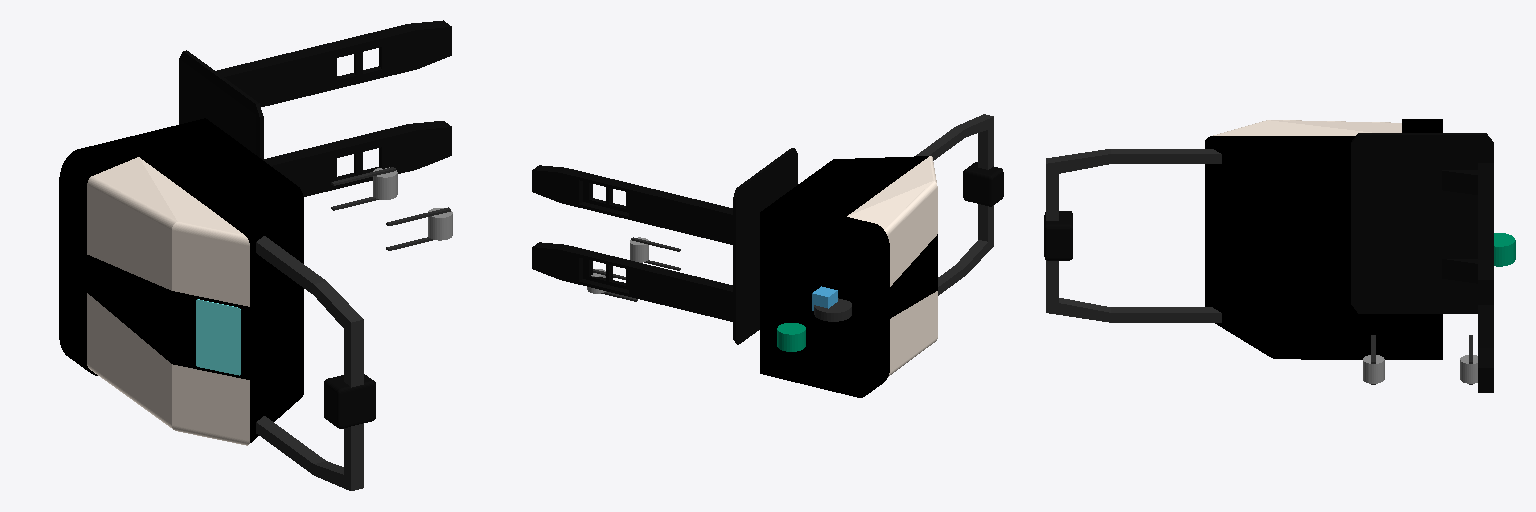
The robot description file, URDF, robot "forklift_amr":
<?xml version="1.0"?>
<robot name="forklift_amr">

  <link name="base_footprint"/>

  <joint name="base_footprint_joint" type="fixed">
    <parent link="base_footprint"/>
    <child link="base_link"/>
    <origin xyz="0 0 0" rpy="0 0 0"/>
  </joint>

  <link name="base_link">
    <visual>
      <geometry> <box size="0.1 0.1 0.1"/> </geometry>
    </visual>
    <collision>
      <geometry> <box size="0.1 0.1 0.1"/> </geometry>
    </collision>
    <inertial>
      <mass value="10.0"/>
      <inertia ixx="5.0" ixy="0.0" ixz="0.0" iyy="5.0" iyz="0.0" izz="5.0"/>
    </inertial>
  </link>

  <joint name="left_wheel_joint" type="continuous">
    <parent link="base_link"/>
    <child link="left_wheel_link"/>
    <origin xyz="0.0 0.35 -0.071" rpy="0 0 0"/>
    <axis xyz="0 1 0"/>
  </joint>
  <link name="left_wheel_link">
    <visual>   <geometry> <mesh filename="wheel/wheel_texture.dae"/> </geometry> </visual>
    <collision>
      <origin xyz="0 0 0" rpy="1.57079632679 0 0"/>
      <geometry> 
        <cylinder radius="0.075" length="0.1"/> 
      </geometry> 
    </collision>
  </link>

  <joint name="right_wheel_joint" type="continuous">
    <parent link="base_link"/>
    <child link="right_wheel_link"/>
    <origin xyz="0.0 -0.35 -0.071" rpy="0 0 0"/>
    <axis xyz="0 1 0"/>
  </joint>
  <link name="right_wheel_link">
    <visual>   <geometry> <mesh filename="wheel/wheel_texture.dae"/> </geometry> </visual>
    <collision>
      <origin xyz="0 0 0" rpy="1.57079632679 0 0"/>
      <geometry> 
        <cylinder radius="0.075" length="0.1"/> 
      </geometry> 
    </collision>
  </link>

  <joint name="middle_wheel_joint" type="fixed">
    <parent link="base_link"/> <child link="middle_wheel_link"/>
    <origin xyz="-0.05 0.0 -0.04" rpy="0 0 0"/>
  </joint>
  <link name="middle_wheel_link">
    <visual>   <geometry> <mesh filename="wheel/wheel_middle.dae"/> </geometry> </visual>
    <collision><geometry> <mesh filename="wheel/wheel_middle.dae"/> </geometry> </collision>
  </link>

  <joint name="cast_wheel_joint1" type="revolute">
    <parent link="base_link"/> 
    <child link="cast_wheel_link1"/>
    <origin xyz="1.25 -0.2225 -0.09" rpy="0 0 0"/>
    <axis xyz="0 1 0"/> <limit lower="0.0" upper="1.5708" effort="100.0" velocity="1.0"/> 
  </joint>
  <link name="cast_wheel_link1">
    <visual>   <geometry> <mesh filename="castor/castor1.dae"/> </geometry> </visual>
    <collision><geometry> <mesh filename="castor/castor1.dae"/> </geometry> </collision>



    <visual>   <geometry> <mesh filename="castor/castor3.dae"/> </geometry> </visual>
    <collision><geometry> <mesh filename="castor/castor3.dae"/> </geometry> </collision>

    <visual>   <geometry> <mesh filename="castor/castor4.dae"/> </geometry> </visual>
    <collision><geometry> <mesh filename="castor/castor4.dae"/> </geometry> </collision>
  </link>

  <joint name="cast_wheel_joint2" type="revolute">
    <parent link="base_link"/> 
    <child link="cast_wheel_link2"/>
    <origin xyz="1.25 0.2225 -0.09" rpy="0 0 0"/>
    <axis xyz="0 1 0"/> <limit lower="0.0" upper="1.5708" effort="100.0" velocity="1.0"/>
  </joint>
  <link name="cast_wheel_link2">
    <visual>   <geometry> <mesh filename="castor/castor1.dae"/> </geometry> </visual>
    <collision><geometry> <mesh filename="castor/castor1.dae"/> </geometry> </collision>



    <visual>   <geometry> <mesh filename="castor/castor3.dae"/> </geometry> </visual>
    <collision><geometry> <mesh filename="castor/castor3.dae"/> </geometry> </collision>

    <visual>   <geometry> <mesh filename="castor/castor4.dae"/> </geometry> </visual>
    <collision><geometry> <mesh filename="castor/castor4.dae"/> </geometry> </collision>
  </link>

  <joint name="mast_joint" type="fixed">
    <parent link="base_link"/>
    <child link="mast_link"/>
    <origin xyz="0 0 0" rpy="0 0 0"/>
  </joint>
  <link name="mast_link">
    <visual>   <geometry> <mesh filename="base/base1_1.dae"/> </geometry> </visual>
    <collision><geometry> <mesh filename="base/base1_1.dae"/> </geometry> </collision>

    <visual>   <geometry> <mesh filename="base/base1_2.dae"/> </geometry> </visual>
    <collision><geometry> <mesh filename="base/base1_2.dae"/> </geometry> </collision>

    <visual>   <geometry> <mesh filename="base/base1_3.dae"/> </geometry> </visual>
    <collision><geometry> <mesh filename="base/base1_3.dae"/> </geometry> </collision>

    <visual>   <geometry> <mesh filename="base/base1_4.dae"/> </geometry> </visual>
    <collision><geometry> <mesh filename="base/base1_4.dae"/> </geometry> </collision>

    <visual>   <geometry> <mesh filename="base/base1_5.dae"/> </geometry> </visual>
    <collision><geometry> <mesh filename="base/base1_5.dae"/> </geometry> </collision>

    <visual>   <geometry> <mesh filename="base/base2.dae"/> </geometry> </visual>
    <collision><geometry> <mesh filename="base/base2.dae"/> </geometry> </collision>

    <visual>   <geometry> <mesh filename="base/base3.dae"/> </geometry> </visual>
    <collision><geometry> <mesh filename="base/base3.dae"/> </geometry> </collision>

    <visual>   <geometry> <mesh filename="base/base4.dae"/> </geometry> </visual>
    <collision><geometry> <mesh filename="base/base4.dae"/> </geometry> </collision>

    <visual>   <geometry> <mesh filename="base/base5.dae"/> </geometry> </visual>
    <collision><geometry> <mesh filename="base/base5.dae"/> </geometry> </collision>

    <visual>   <geometry> <mesh filename="base/base6.dae"/> </geometry> </visual>
    <collision><geometry> <mesh filename="base/base6.dae"/> </geometry> </collision>

    <visual>   <geometry> <mesh filename="base/base7.dae"/> </geometry> </visual>
    <collision><geometry> <mesh filename="base/base7.dae"/> </geometry> </collision>
    
    <inertial>
      <mass value="10.0"/>
      <origin xyz="0 0 0" rpy="0 0 0"/>
      <inertia ixx="0.2" ixy="0.0" ixz="0.0" iyy="0.2" iyz="0.0" izz="0.05"/>
    </inertial>
  </link>

  <joint name="lift_z_joint" type="prismatic">
    <parent link="mast_link"/>
    <child link="lift_shuttle_link"/>
    <origin xyz="0.36 0 0.23" rpy="0 0 0"/>
    <axis xyz="0 0 1"/>
    <limit lower="-0.1" upper="0.3" effort="50000" velocity="0.5"/>
  </joint>
  
  <link name="lift_shuttle_link">
    <visual> <geometry> <mesh filename="lift/lift1.dae"/> </geometry> </visual>
    <collision> <geometry> <mesh filename="lift/lift1.dae"/> </geometry> </collision>

    <visual> <geometry> <mesh filename="lift/lift2.dae"/> </geometry> </visual>
    <collision> <geometry> <mesh filename="lift/lift2.dae"/> </geometry> </collision>

    <visual> <geometry> <mesh filename="lift/lift3.dae"/> </geometry> </visual>
    <collision> <geometry> <mesh filename="lift/lift3.dae"/> </geometry> </collision>

    <visual> <geometry> <mesh filename="lift/lift4.dae"/> </geometry> </visual>
    <collision> <geometry> <mesh filename="lift/lift4.dae"/> </geometry> </collision>

    <visual> <geometry> <mesh filename="lift/lift5.dae"/> </geometry> </visual>
    <collision> <geometry> <mesh filename="lift/lift5.dae"/> </geometry> </collision>
    
    <inertial>
      <mass value="20.0"/>
      <origin xyz="0 0 0" rpy="0 0 0"/>
      <inertia ixx="0.1" ixy="0.0" ixz="0.0" iyy="0.1" iyz="0.0" izz="0.1"/>
    </inertial>
  </link>

</robot>

--- Facts derived from the render (not from the file) ---
The picture shows the robot from 3 angles, left to right: view 1: azimuth 30°, elevation 25°; view 2: azimuth 150°, elevation 25°; view 3: azimuth 270°, elevation 25°; orthographic projection.
Robot: forklift_amr — 9 links, 8 joints (2 revolute, 2 continuous, 1 prismatic, 3 fixed); root link base_footprint; default pose: all joints at 0.
Links seen in each view (by area): view 1: mast_link, lift_shuttle_link, cast_wheel_link1, cast_wheel_link2; view 2: mast_link, lift_shuttle_link, left_wheel_link, cast_wheel_link1, middle_wheel_link; view 3: mast_link, lift_shuttle_link, cast_wheel_link1, left_wheel_link, cast_wheel_link2.
Boxes of the visible links, x1,y1,x2,y2 form: mast_link: (59,118,375,490); lift_shuttle_link: (179,20,451,196); cast_wheel_link1: (386,207,452,250); cast_wheel_link2: (331,167,397,210); mast_link: (760,114,1003,397); lift_shuttle_link: (532,148,797,344); left_wheel_link: (777,323,805,351); cast_wheel_link1: (630,237,680,270); middle_wheel_link: (814,298,851,321); mast_link: (1044,119,1442,359); lift_shuttle_link: (1351,133,1493,392); cast_wheel_link1: (1363,335,1384,384); left_wheel_link: (1494,233,1515,266); cast_wheel_link2: (1460,335,1477,384).
Size in the robot's own frame: 1.92 by 2.15 by 1.15 metres.
25 mesh visuals loaded from 21 distinct referenced files (21 Collada DAE).
